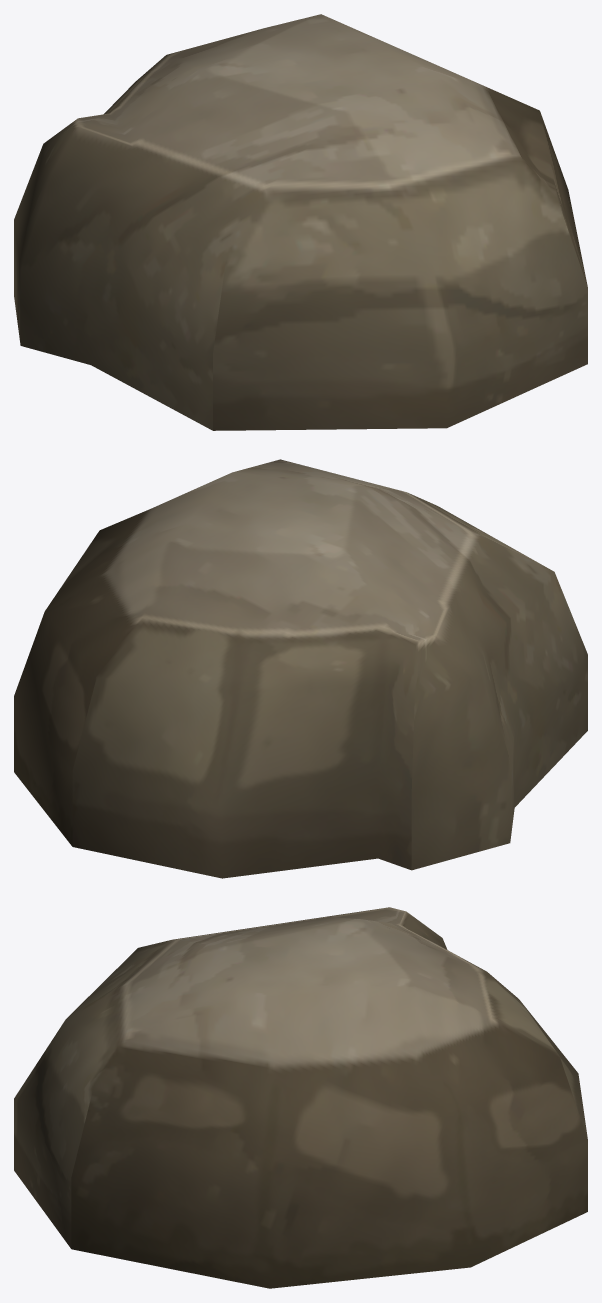
The model's file is rock1Mesh.FBX.
3 views of the same model, one above another, from view 1: azimuth 30°, elevation 25°; view 2: azimuth 150°, elevation 25°; view 3: azimuth 270°, elevation 25° (orthographic). The views are drawn at different scales.
Visible parts, largest first — view 1: rock1; view 2: rock1; view 3: rock1.
Part boxes in pixels (x1,y1,x2,y2): rock1: [14, 14, 587, 430]; rock1: [14, 459, 587, 878]; rock1: [14, 907, 587, 1288].
Size of the model in its own units: 1551 by 714 by 1661.
